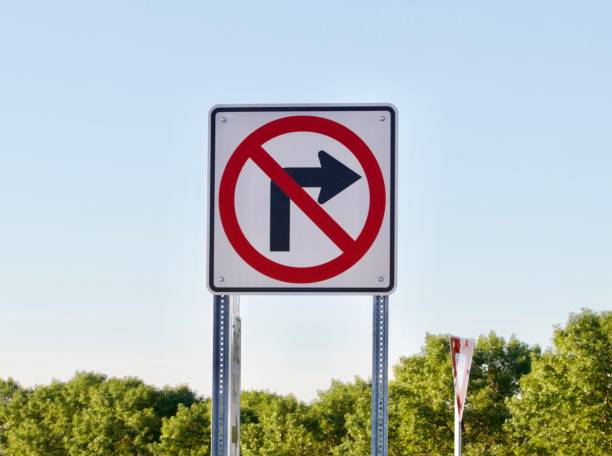saga_donulmez: (221, 115, 387, 290)
